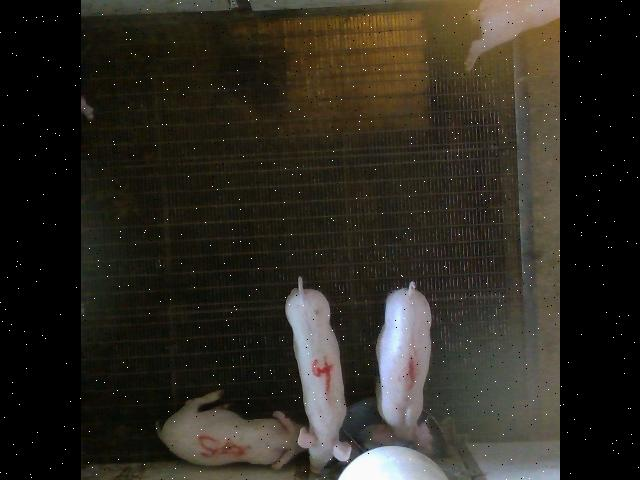pig-1: (366, 282, 432, 454)
pig-4: (285, 278, 351, 472)
pig-5: (155, 390, 302, 469)
